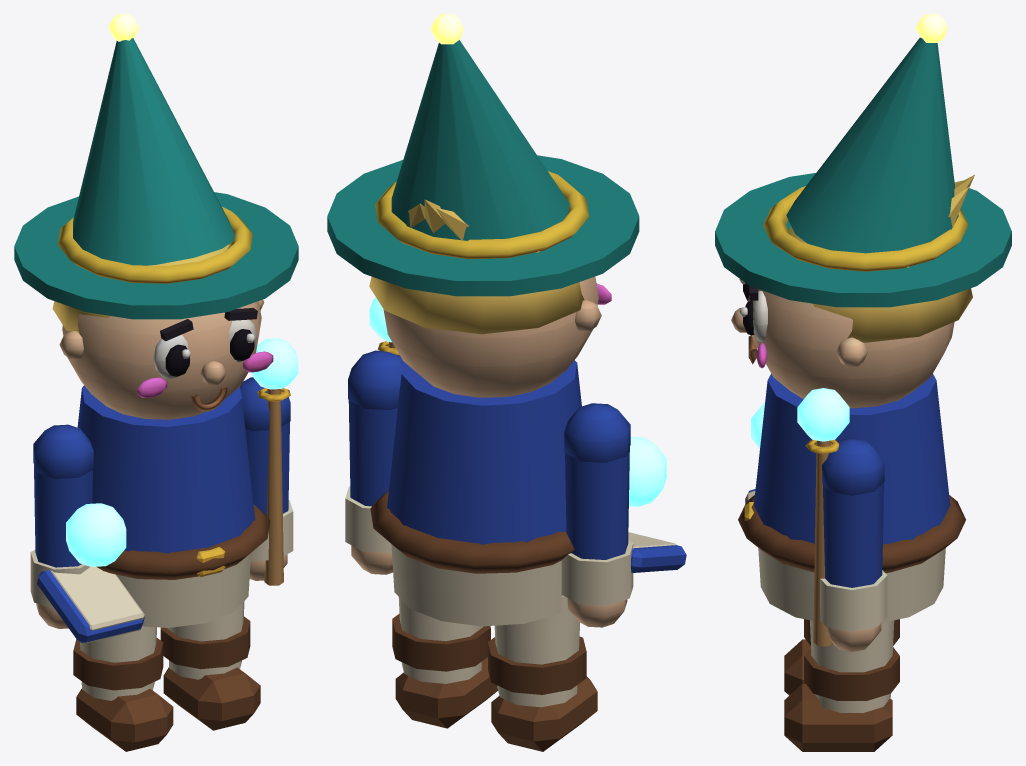
File: hero_tobias.glb
The picture shows the model from 3 angles, left to right: view 1: azimuth 30°, elevation 25°; view 2: azimuth 150°, elevation 25°; view 3: azimuth 270°, elevation 25°; orthographic projection. The views are drawn at different scales.
Parts seen in each view (by area): view 1: body_t0_palette, arml_t0_palette, legl_t0_palette, legr_t0_palette, armr_t0_palette, arml_t0_rune, armr_t0_rune, body_t0_glow_gold; view 2: body_t0_palette, arml_t0_palette, legl_t0_palette, armr_t0_palette, legr_t0_palette, arml_t0_rune, body_t0_glow_gold; view 3: body_t0_palette, armr_t0_palette, legr_t0_palette, armr_t0_rune, legl_t0_palette, body_t0_glow_gold.
Part boxes in pixels (<box>): body_t0_palette: <box>14,38,298,627</box>; arml_t0_palette: <box>30,424,144,642</box>; legl_t0_palette: <box>73,626,173,751</box>; legr_t0_palette: <box>160,601,260,730</box>; armr_t0_palette: <box>240,377,293,585</box>; arml_t0_rune: <box>66,503,126,566</box>; armr_t0_rune: <box>251,338,298,389</box>; body_t0_glow_gold: <box>108,14,138,41</box>; body_t0_palette: <box>327,40,639,626</box>; arml_t0_palette: <box>561,403,686,627</box>; legl_t0_palette: <box>488,595,597,751</box>; armr_t0_palette: <box>345,341,403,574</box>; legr_t0_palette: <box>392,597,497,728</box>; arml_t0_rune: <box>629,437,666,506</box>; body_t0_glow_gold: <box>430,14,463,44</box>; body_t0_palette: <box>715,37,1011,622</box>; armr_t0_palette: <box>805,438,887,651</box>; legr_t0_palette: <box>784,620,899,751</box>; armr_t0_rune: <box>797,388,849,441</box>; legl_t0_palette: <box>784,619,899,695</box>; body_t0_glow_gold: <box>916,14,947,42</box>.
Size of the model in its own units: 0.274 by 0.684 by 0.26.
